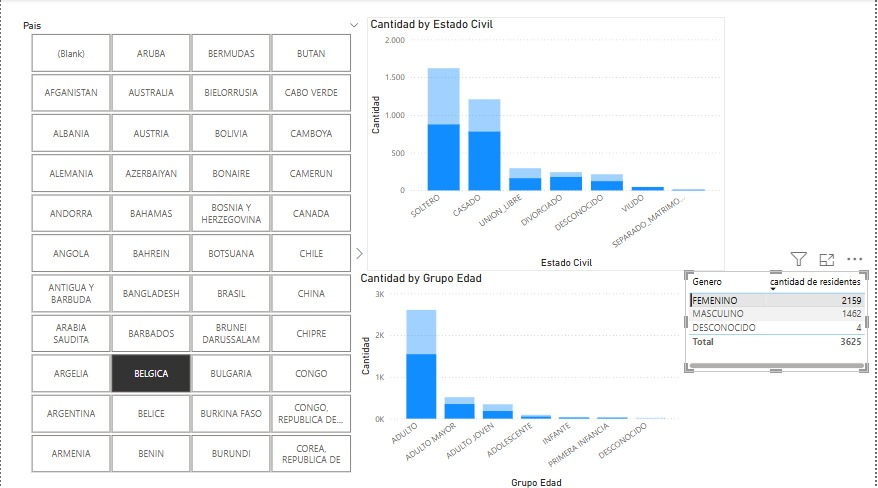

The dashboard page shown, as its layout file describes it:
{"tool":"powerbi","page":{"name":"Dashboard 2","canvas":[1280,720],"ordinal":2},"visuals":[{"type":"slicer","fields":{"Values":["DIM_Georefenciacion_Paises.Nompais"]},"box":[19,26.3,516.6,673.2],"z":0},{"type":"clusteredColumnChart","fields":{"Category":["DIM_ESTADO_CIVIL.NomEstadoCivil"],"Y":["CountNonNull(FAC_COLOMBIANOSENELEXTERIOR.IdEstadoCivil)"]},"box":[535.6,26.3,523.9,371.7],"z":1000},{"type":"tableEx","fields":{"Values":["DIM_GENERO.NomGenero","Count(FAC_COLOMBIANOSENELEXTERIOR.IdCodigopais)"]},"box":[1001,398,267.8,147.8],"z":1001},{"type":"clusteredColumnChart","fields":{"Category":["DIM_GRUPO_EDAD.NomGrupoEdad"],"Y":["CountNonNull(FAC_COLOMBIANOSENELEXTERIOR.IdGrupoEdad)"]},"box":[521,398,480,322],"z":1002}]}

Visuals, with their boxes in screenshot pixels (x1, y1, x2, y2), scaled from the page's 1280x720 canvas onto the 878x488 screenshot:
slicer - DIM_Georefenciacion_Paises.Nompais: bbox(13, 18, 367, 474)
clusteredColumnChart - DIM_ESTADO_CIVIL.NomEstadoCivil x CountNonNull(FAC_COLOMBIANOSENELEXTERIOR.IdEstadoCivil): bbox(367, 18, 727, 270)
tableEx - DIM_GENERO.NomGenero x Count(FAC_COLOMBIANOSENELEXTERIOR.IdCodigopais): bbox(687, 270, 870, 370)
clusteredColumnChart - DIM_GRUPO_EDAD.NomGrupoEdad x CountNonNull(FAC_COLOMBIANOSENELEXTERIOR.IdGrupoEdad): bbox(357, 270, 687, 487)
